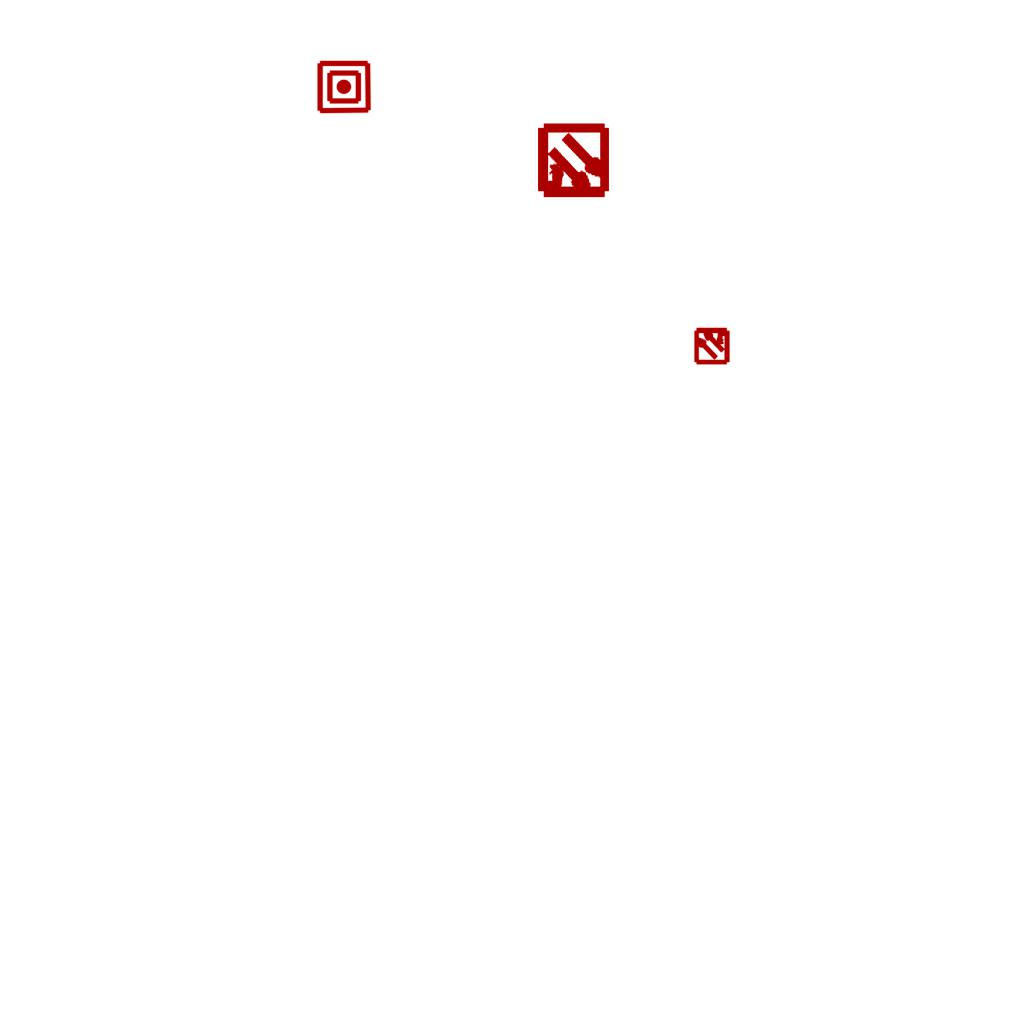NAM-Nichtautomatischer_Melder: (316, 59, 372, 115)
OT_Multisensormelder_(Kombination_RMO_WMD): (517, 106, 630, 219), (684, 317, 740, 373)
